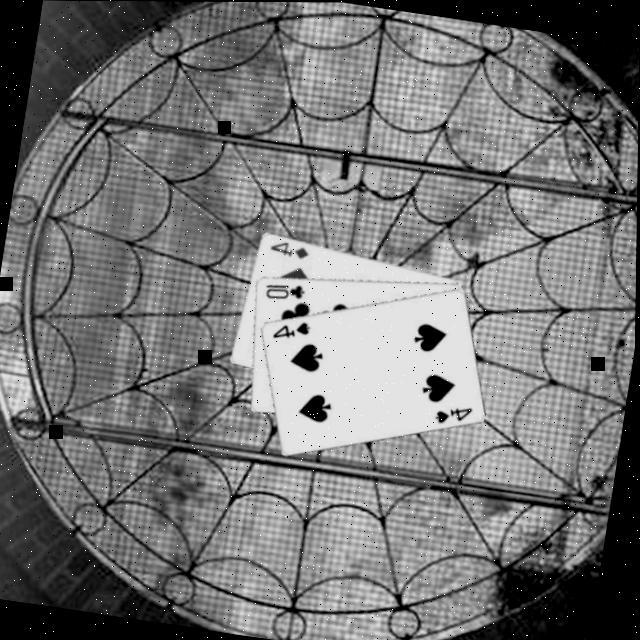10C: (259, 275, 307, 304)
4D: (264, 234, 311, 260)
4S: (268, 312, 313, 344), (430, 398, 474, 429)
